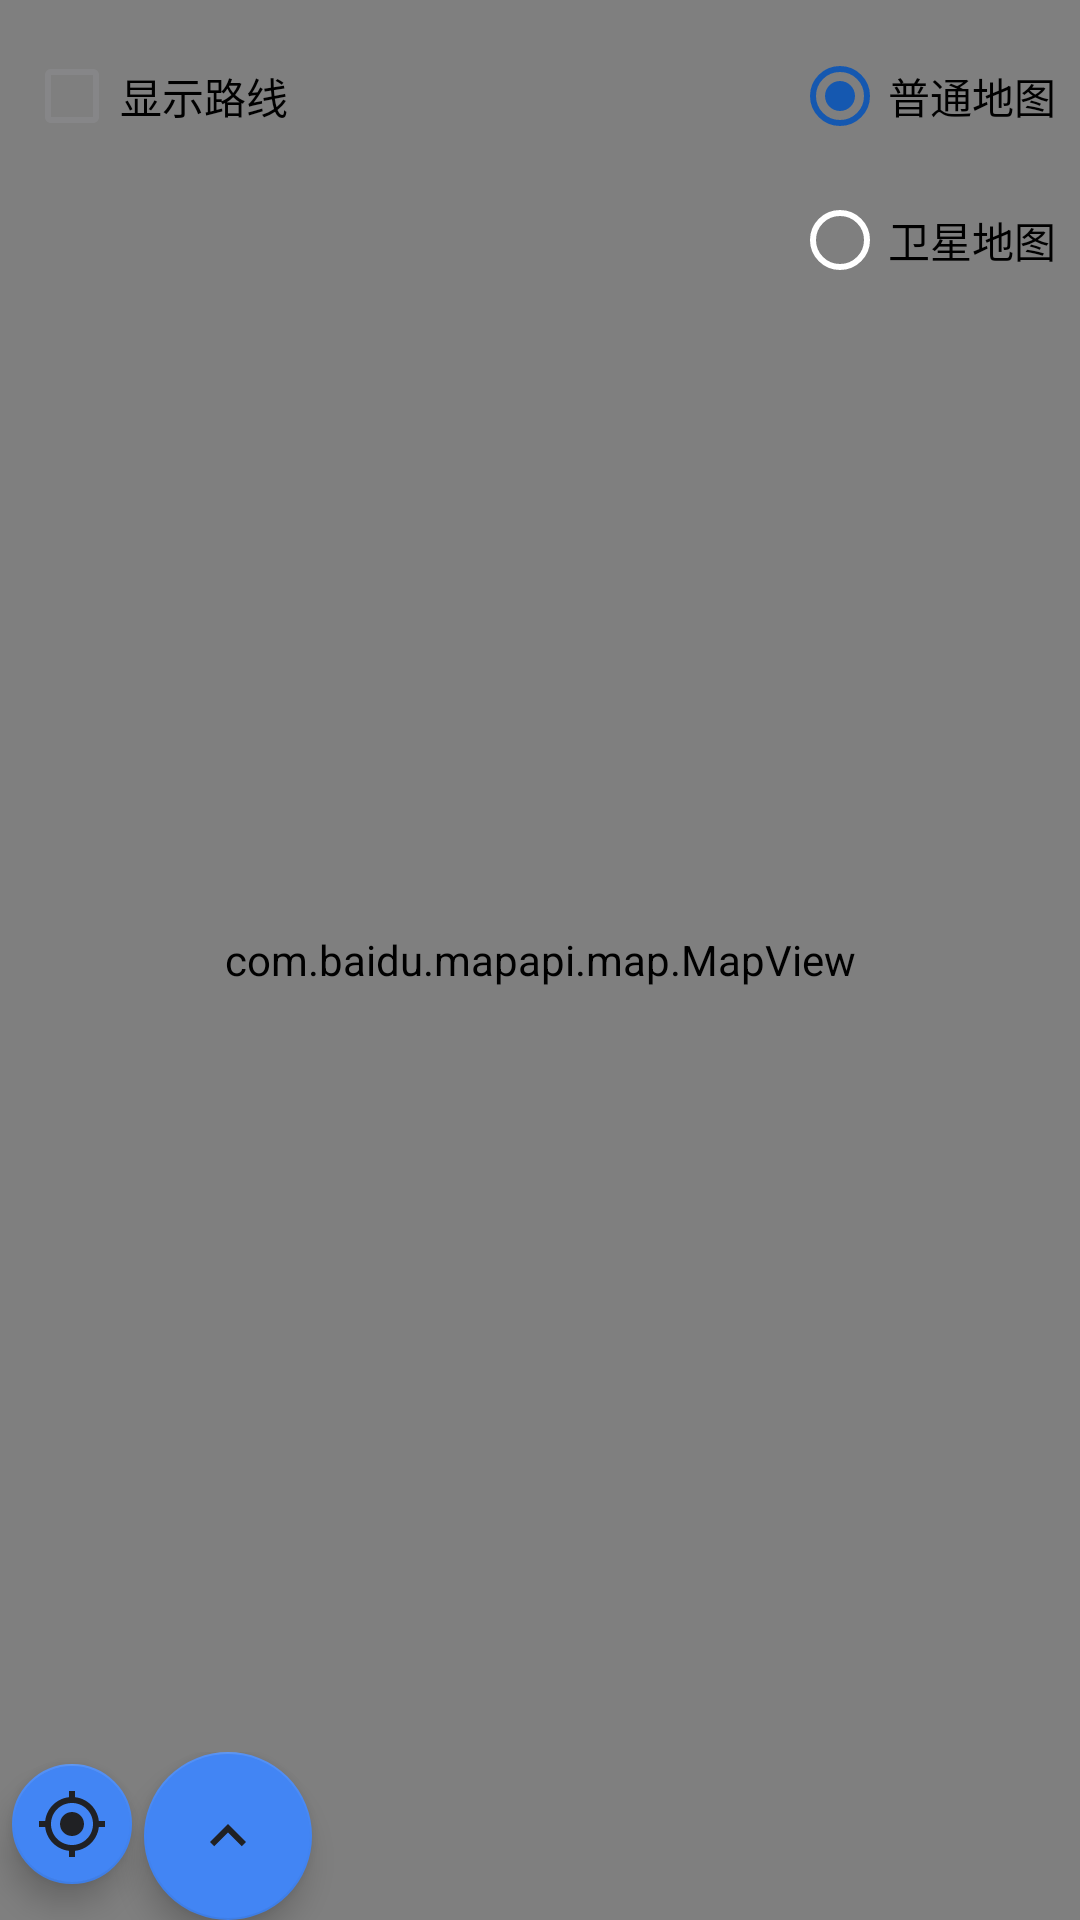

Icons on this 1080 x 1920 Android screen, each with its box as (x1, y1, x2, y2):
keyboard arrow up: (144, 1752, 312, 1920)
定位到当前位置: (12, 1764, 132, 1884)
